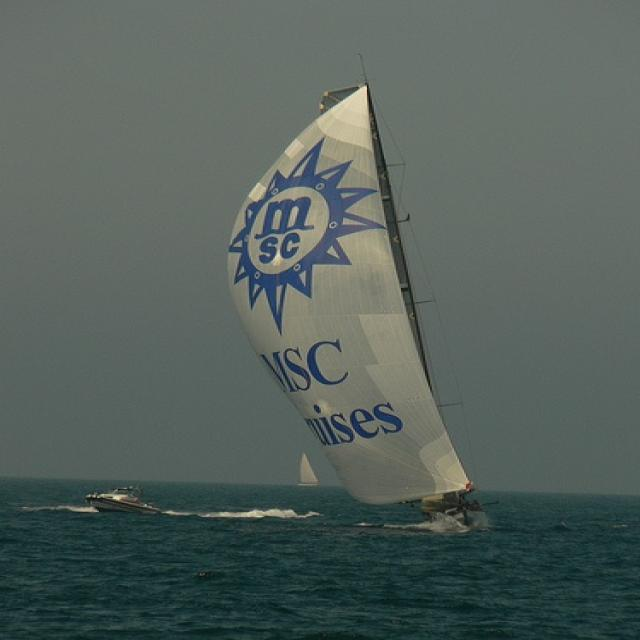boat: (227, 81, 498, 539), (87, 484, 162, 514), (295, 453, 319, 489)
